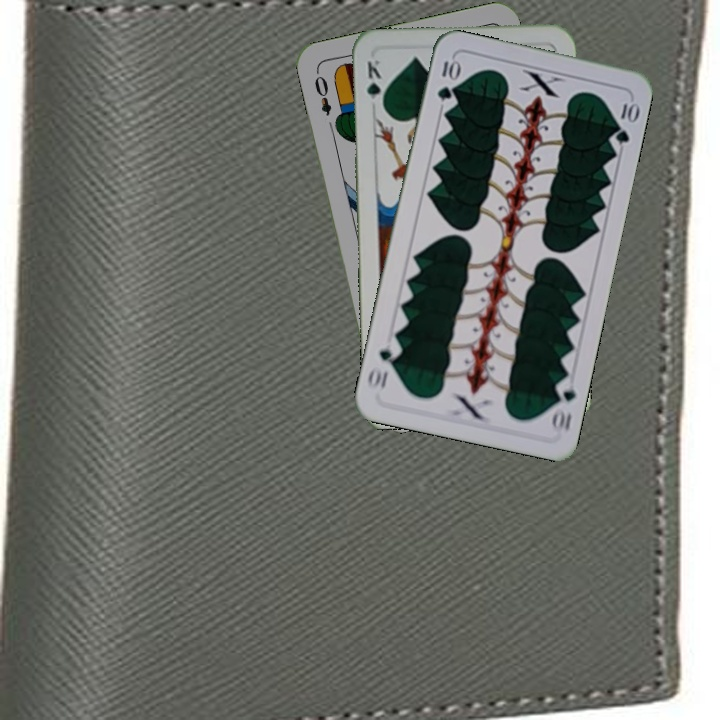EO: (310, 67, 334, 118)
G10: (547, 375, 579, 435), (433, 55, 461, 103)
GK: (362, 56, 386, 112)
